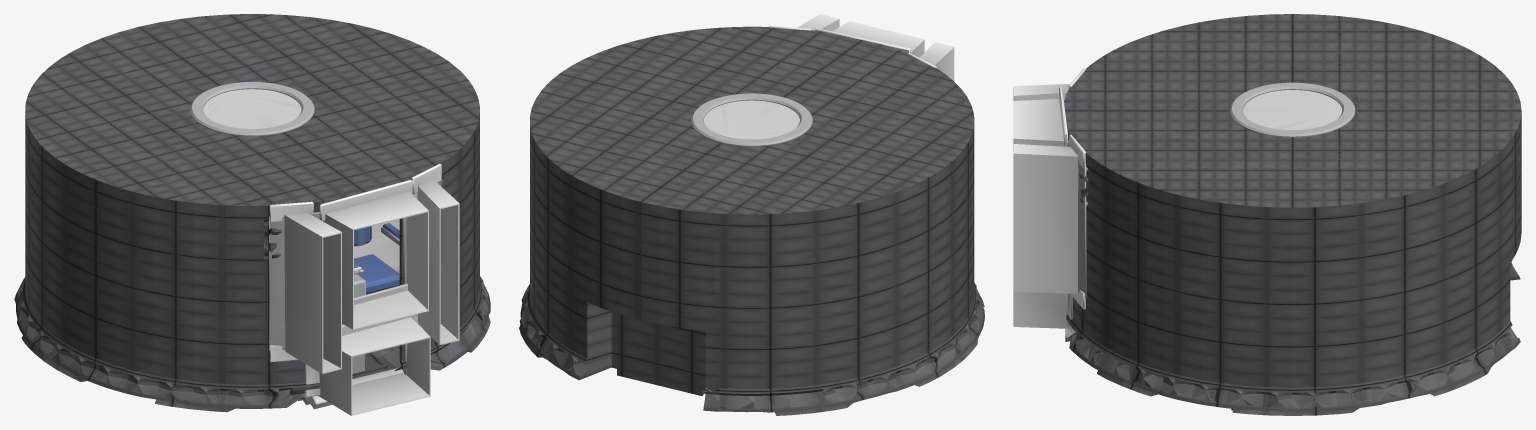
File: Lander2vInterior.fbx
The picture shows the model from 3 angles, left to right: view 1: azimuth 30°, elevation 25°; view 2: azimuth 150°, elevation 25°; view 3: azimuth 270°, elevation 25°; orthographic projection. The views are drawn at different scales.
Parts seen in each view (by area): view 1: Mesh_WallPadded, Mesh_FrameDark.001, Mesh_HatchDetail, Mesh_Frame.001, Mesh_SeatBlue, Mesh_MidPanelDetail; view 2: Mesh_WallPadded, Mesh_HatchDetail, Mesh_FrameDark.001, Mesh_Frame.001; view 3: Mesh_WallPadded, Mesh_FrameDark.001, Mesh_HatchDetail, Mesh_Frame.001.
Boxes of the visible parts, x1,y1,x2,y2 form: Mesh_WallPadded: [14, 14, 490, 412]; Mesh_FrameDark.001: [268, 163, 459, 415]; Mesh_HatchDetail: [203, 89, 301, 128]; Mesh_Frame.001: [190, 82, 399, 374]; Mesh_SeatBlue: [354, 223, 399, 294]; Mesh_MidPanelDetail: [354, 219, 399, 273]; Mesh_WallPadded: [519, 26, 984, 415]; Mesh_HatchDetail: [704, 100, 799, 139]; Mesh_FrameDark.001: [769, 14, 954, 81]; Mesh_Frame.001: [691, 93, 812, 146]; Mesh_WallPadded: [1064, 14, 1521, 415]; Mesh_FrameDark.001: [1013, 68, 1087, 337]; Mesh_HatchDetail: [1243, 90, 1342, 129]; Mesh_Frame.001: [1230, 82, 1355, 137].
Size of the model in its own units: 2.58 by 1.23 by 2.71.
